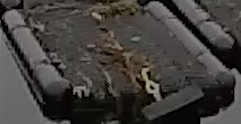bag: (2, 2, 235, 117)
